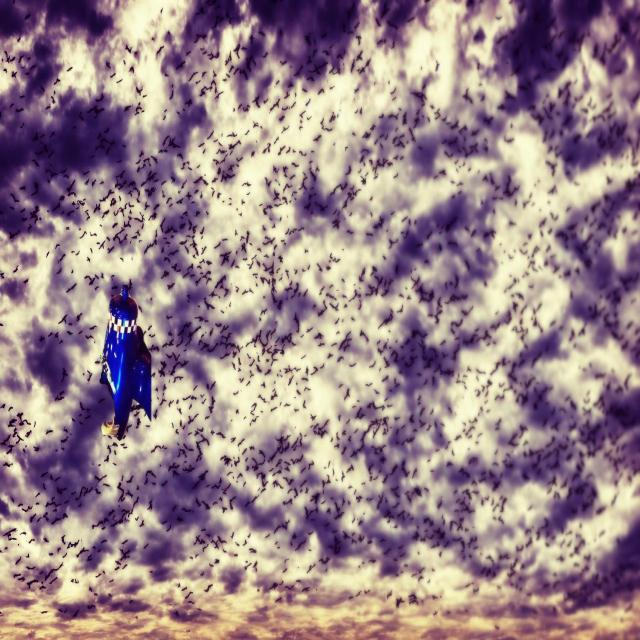airplane: (98, 280, 152, 440)
